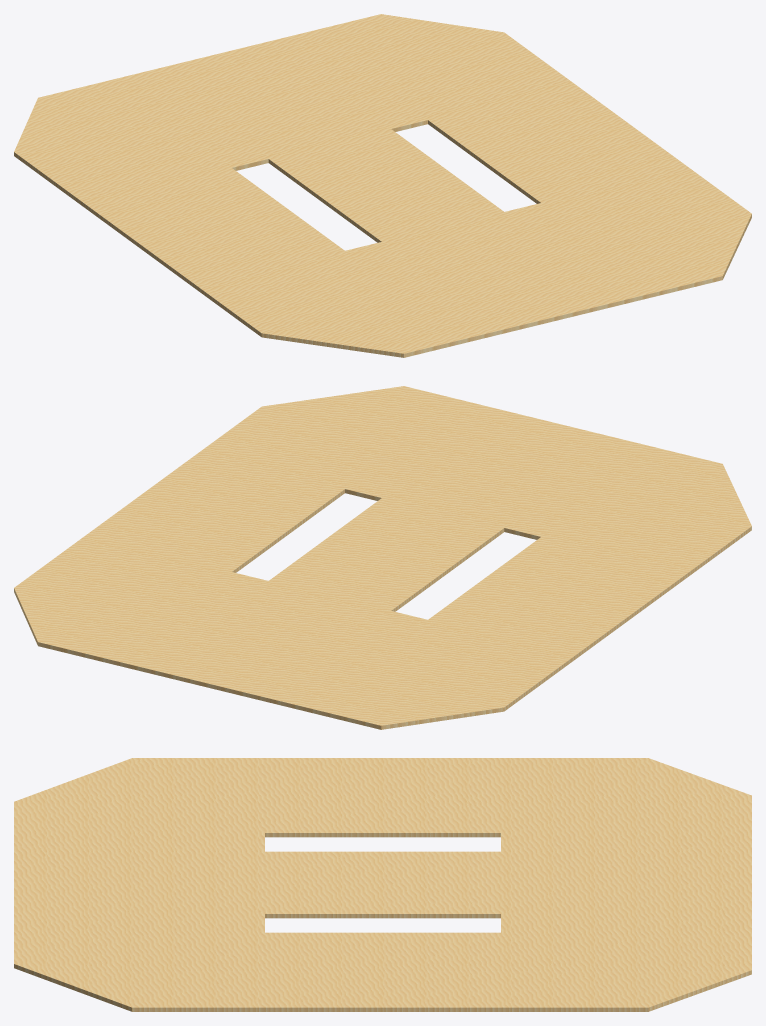
File: seabed-28-CuqXr1M9.glb
The picture shows the model from 3 angles, top to bottom: view 1: azimuth 30°, elevation 25°; view 2: azimuth 150°, elevation 25°; view 3: azimuth 270°, elevation 25°; orthographic projection. The views are drawn at different scales.
Parts seen in each view (by area): view 1: SW_SandShelf; view 2: SW_SandShelf; view 3: SW_SandShelf.
Part boxes in pixels (x1=…): SW_SandShelf: x1=14, y1=14, x2=751, y2=357; SW_SandShelf: x1=14, y1=386, x2=751, y2=729; SW_SandShelf: x1=14, y1=758, x2=751, y2=1011.
Size of what is drawn, in the model's own units: 40 by 0.32 by 50.
1 material, 1 textured.
